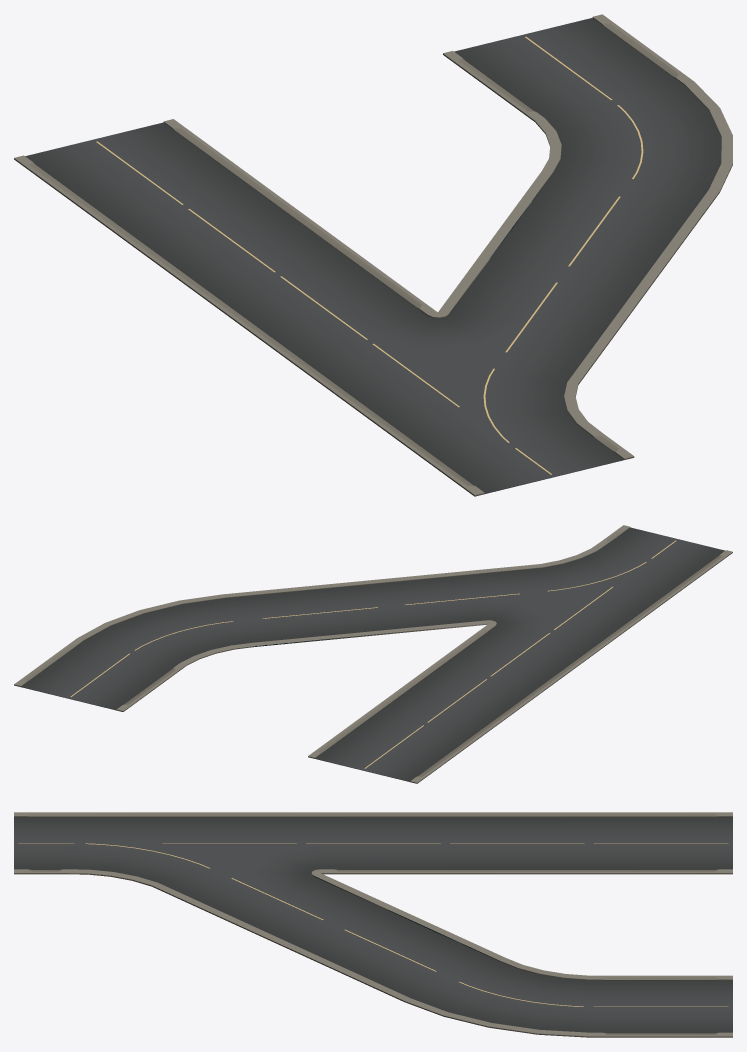
Rendered from Runway_Addon_1B.fbx.
3 views of the same model, one above another, from view 1: azimuth 30°, elevation 25°; view 2: azimuth 150°, elevation 25°; view 3: azimuth 270°, elevation 25° (orthographic). The views are drawn at different scales.
Visible parts, largest first — view 1: Runway_Addon_1B; view 2: Runway_Addon_1B; view 3: Runway_Addon_1B.
Part boxes in pixels (<box>): Runway_Addon_1B: <box>14,14,732,496</box>; Runway_Addon_1B: <box>14,525,732,783</box>; Runway_Addon_1B: <box>14,812,732,1037</box>.
Bounding box in the file's own units: 11800 × 30 × 16000.
